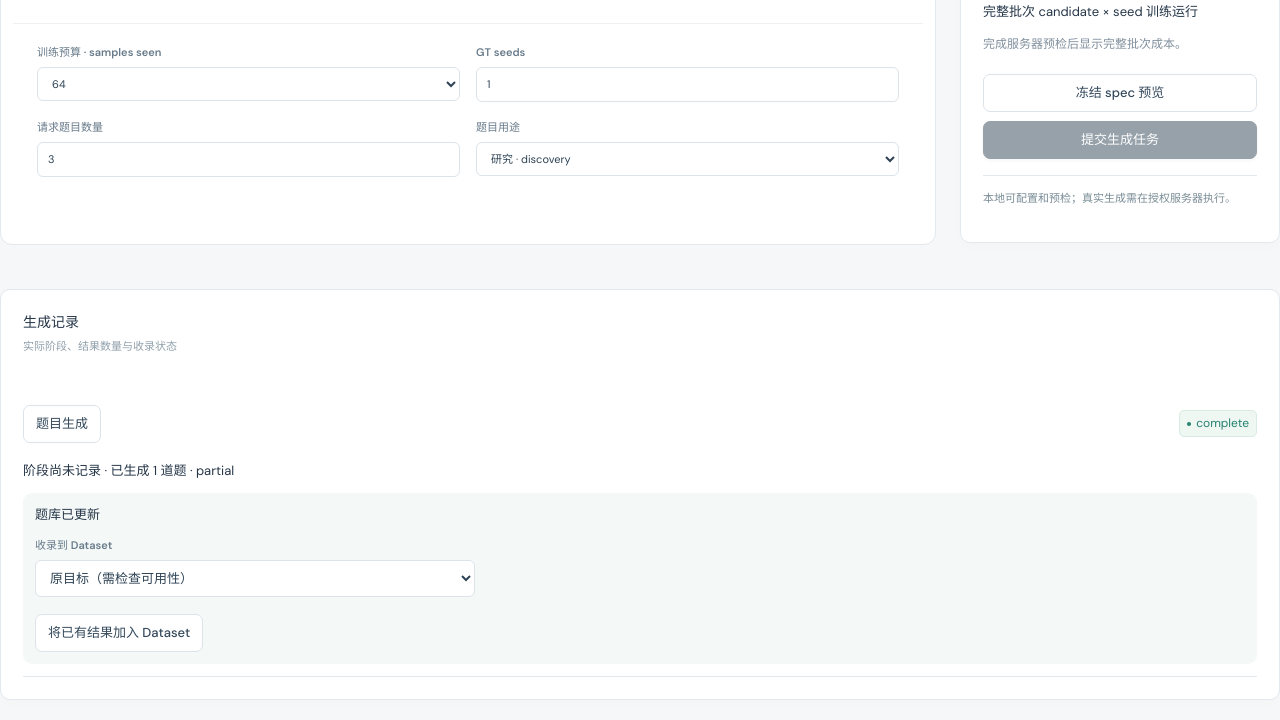
Test: shows attachment conflict without regenerating questions
(page scrolled)
Click the button "将已有结果加入 Dataset" at (119, 633), box [35,614,203,652]
(page scrolled)
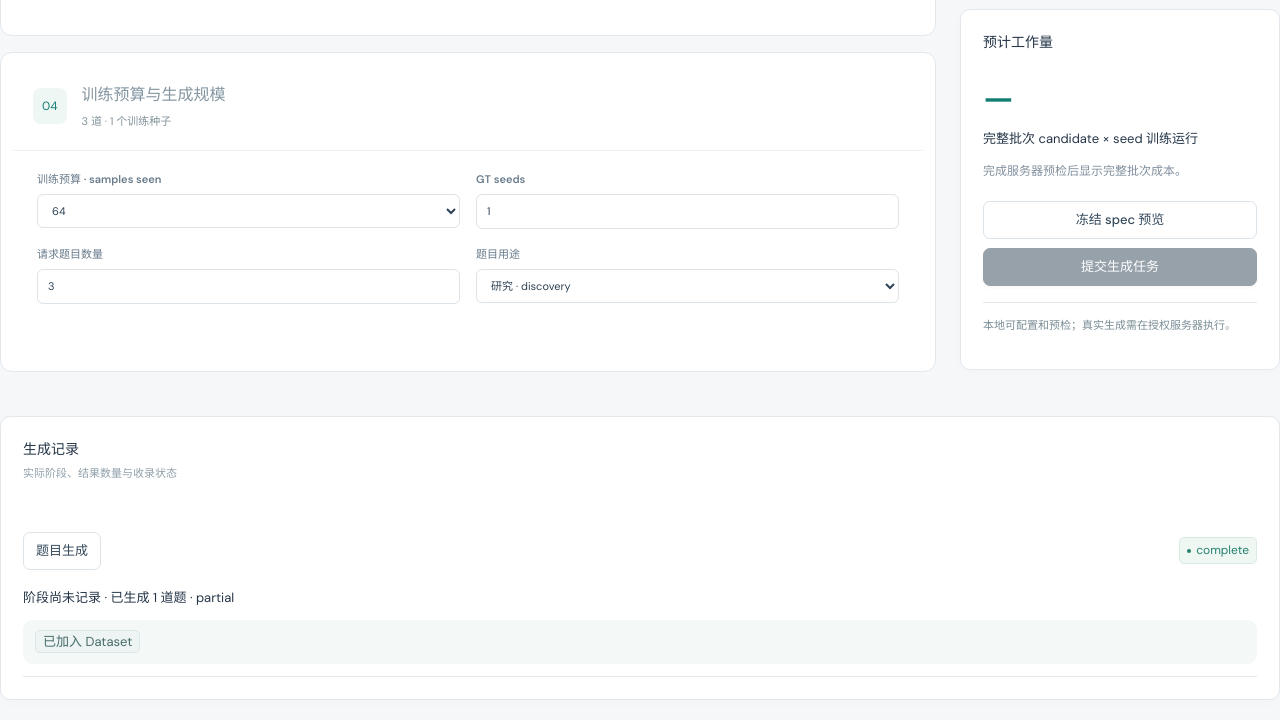
Check: the text "已加入 Dataset" is shown, box [35,630,140,653]
